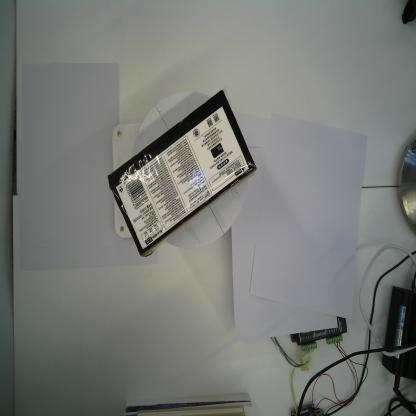Tissue: (105, 87, 258, 258)
